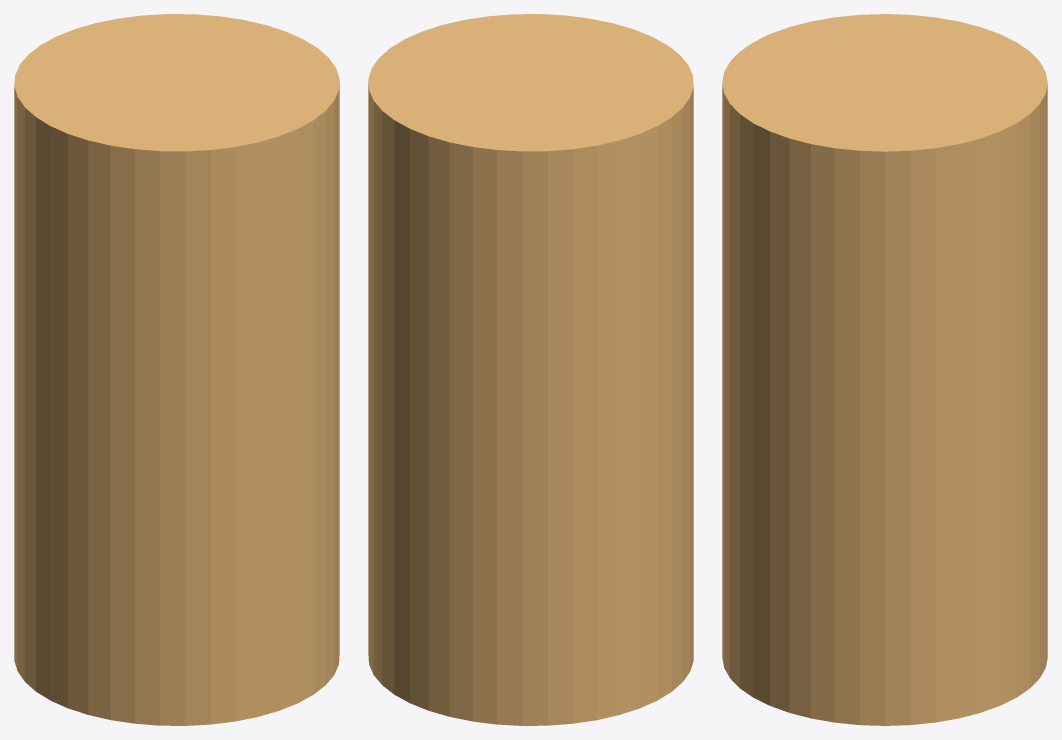
Rendered from med_pill_bottle_0015.glb.
3 renders of one model, left to right at view 1: azimuth 30°, elevation 25°; view 2: azimuth 150°, elevation 25°; view 3: azimuth 270°, elevation 25°, orthographic.
Parts seen in each view (by area): view 1: z-up-to-y-up; view 2: z-up-to-y-up; view 3: z-up-to-y-up.
Boxes of the visible parts, box(x1,y1,x2,y2) form: z-up-to-y-up: box(14, 14, 339, 725); z-up-to-y-up: box(368, 14, 693, 725); z-up-to-y-up: box(722, 14, 1047, 725).
Size of the model in its own units: 0.0528 by 0.1028 by 0.0528.
